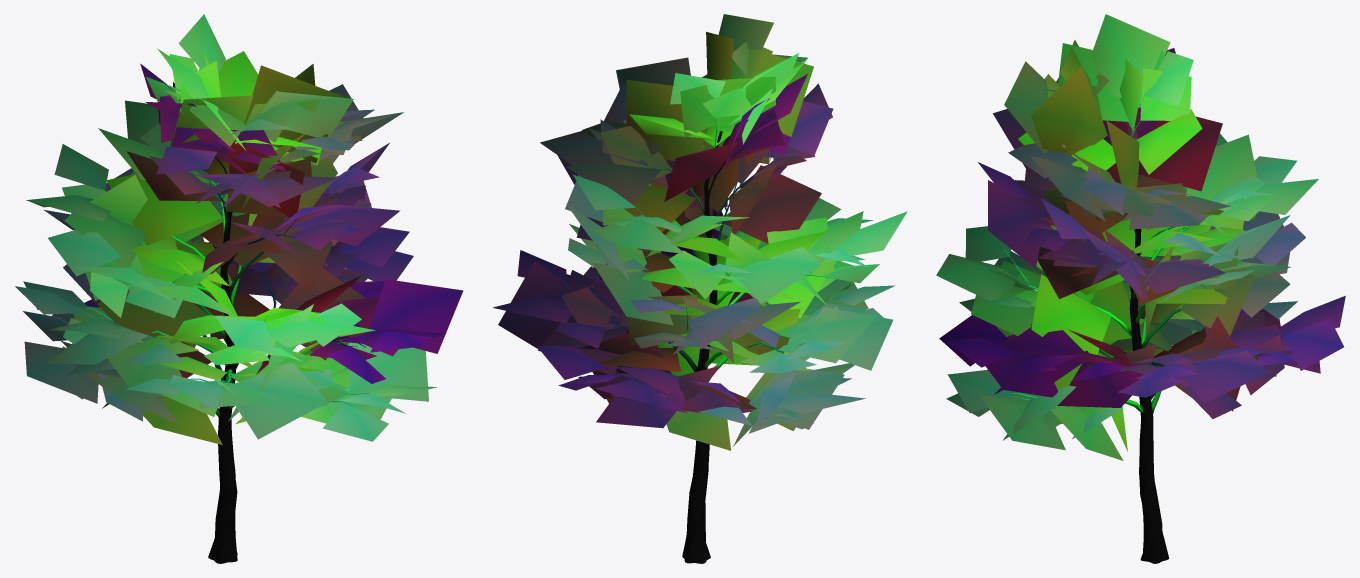
File: SM_WLTree_06.FBX
3 renders of one model, left to right at view 1: azimuth 30°, elevation 25°; view 2: azimuth 150°, elevation 25°; view 3: azimuth 270°, elevation 25°, orthographic. The views are drawn at different scales.
Parts seen in each view (by area): view 1: SM_WLTree_06_LOD0; view 2: SM_WLTree_06_LOD0; view 3: SM_WLTree_06_LOD0.
Boxes of the visible parts, x1,y1,x2,y2 form: SM_WLTree_06_LOD0: (15, 14, 463, 563); SM_WLTree_06_LOD0: (493, 14, 907, 563); SM_WLTree_06_LOD0: (936, 14, 1345, 563).
Size of what is drawn, in the model's own units: 465 by 467 by 636.
